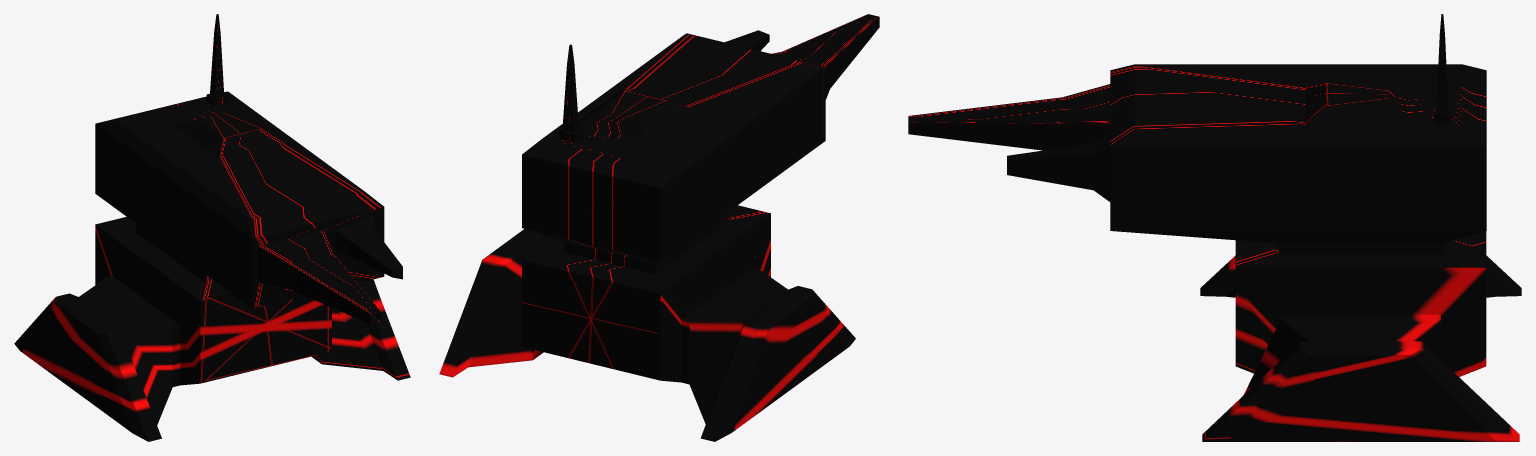
File: Enemy2.fbx
3 views of the same model, side by side, from view 1: azimuth 30°, elevation 25°; view 2: azimuth 150°, elevation 25°; view 3: azimuth 270°, elevation 25° (orthographic). The views are drawn at different scales.
Parts seen in each view (by area): view 1: pCube2; view 2: pCube2; view 3: pCube2.
Part boxes in pixels (<box>): pCube2: <box>14,14,410,441</box>; pCube2: <box>439,14,879,441</box>; pCube2: <box>908,14,1521,441</box>.
Size of the model in its own units: 4.28 by 4.69 by 6.98.
